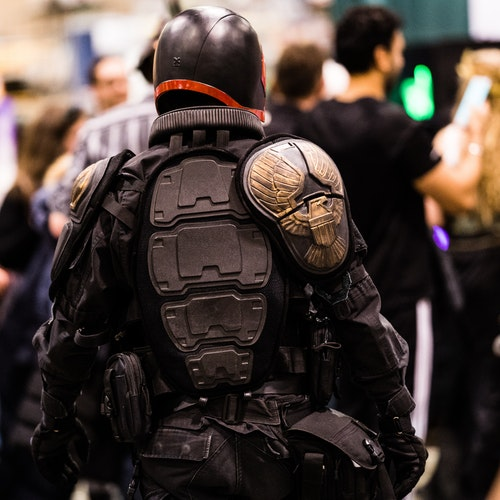helmet: (149, 11, 295, 136)
